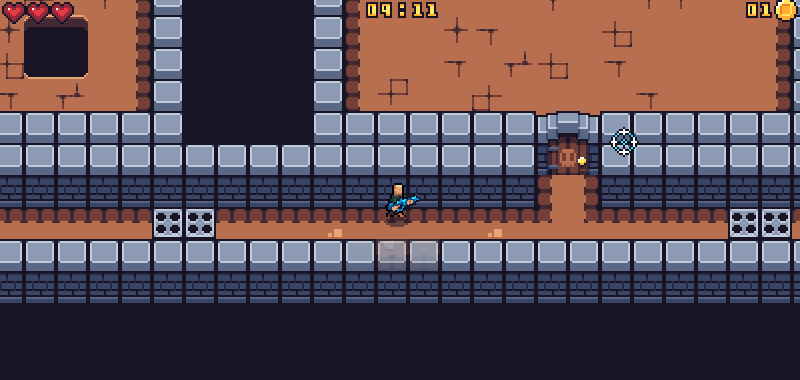door: (534, 110, 603, 176)
trap_off: (728, 206, 790, 242), (153, 205, 216, 240)
